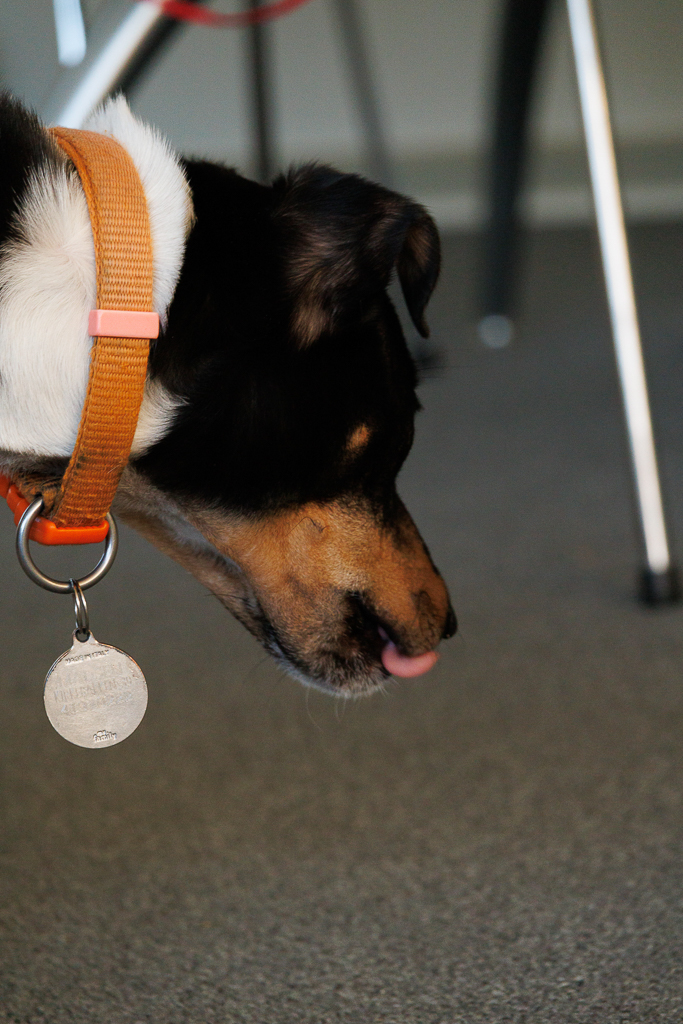Dog: (0, 57, 471, 761)
